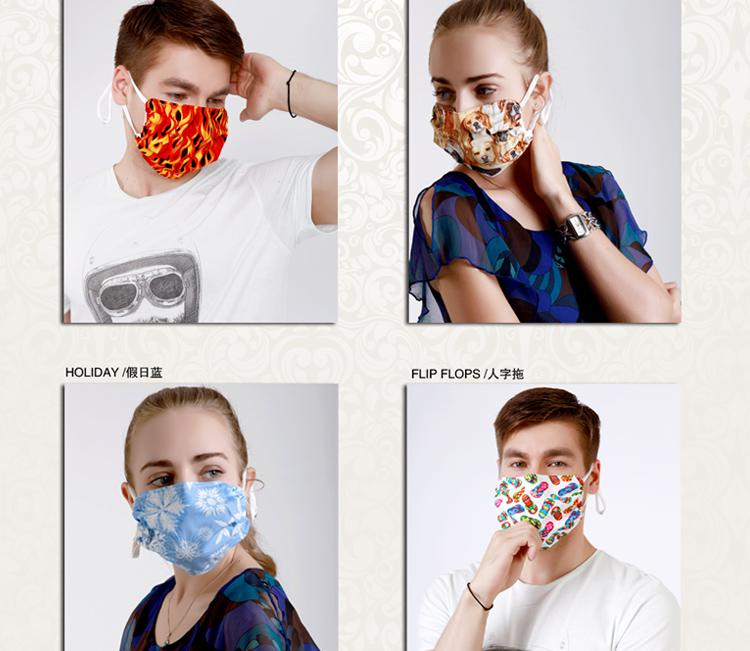OK: (126, 446, 251, 571), (126, 65, 241, 180), (425, 70, 529, 174), (499, 444, 602, 547)
